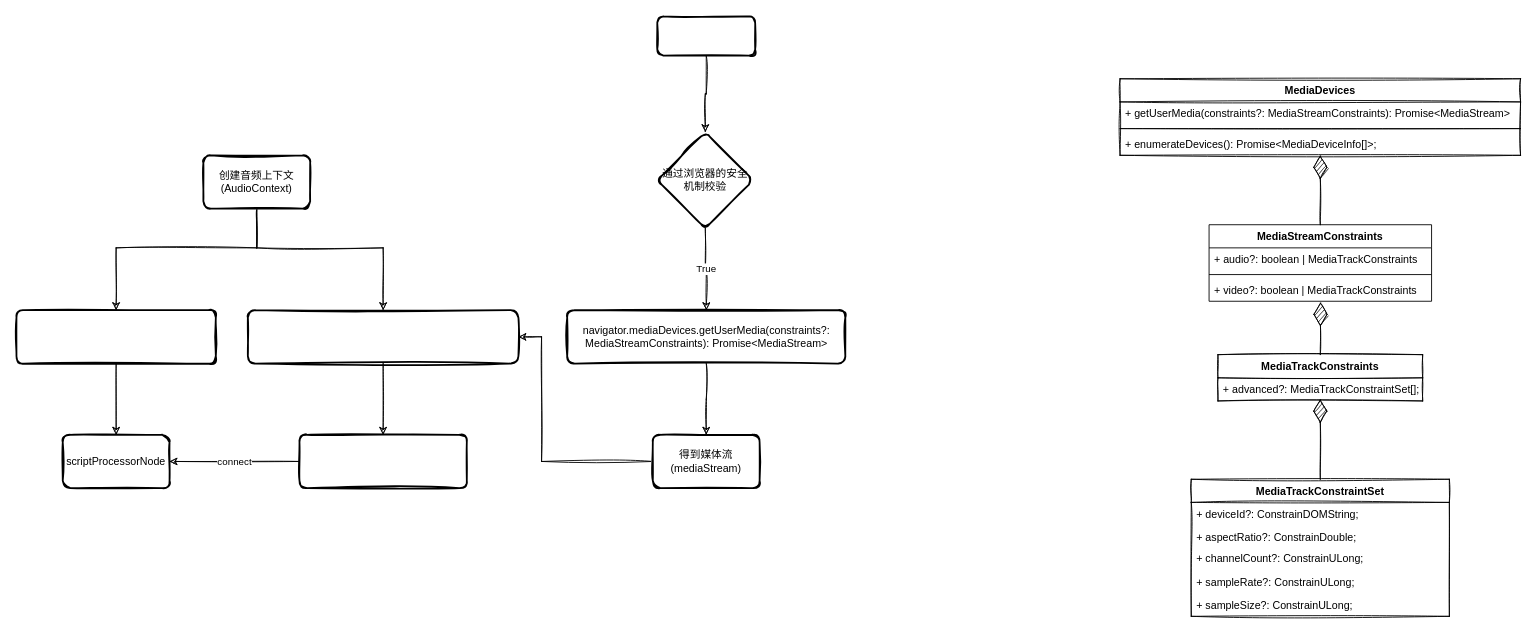
Image size: 1536x634. Some labels were removed from this diagram. Each missing label, with the centre of its shape:
"AudioContext.createMediaStreamSource(mediaStream)" goes at point 383,336.
"AudioContext.createScriptProcessor()" goes at point 115,336.
"H5录音功能" goes at point 706,35.
"mediaStreamAudioSourceNode" goes at point 382,461.
